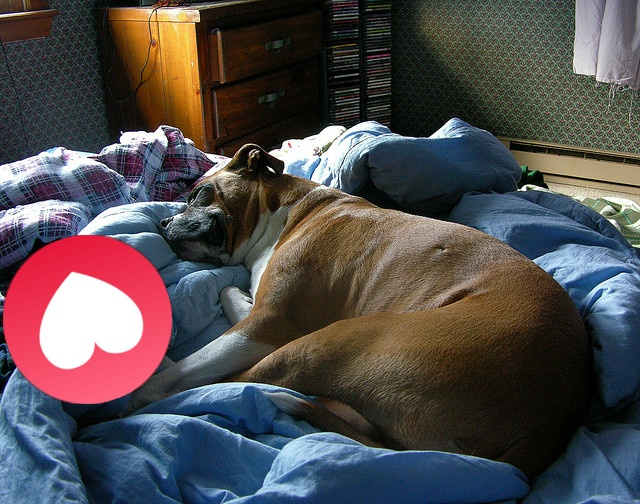love: (3, 235, 172, 404)
